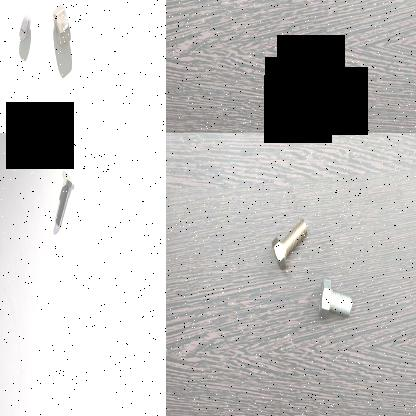Bolts: (268, 213, 309, 276), (317, 272, 355, 325), (52, 176, 78, 236)
NUTS: (49, 0, 74, 61), (13, 2, 38, 52)
